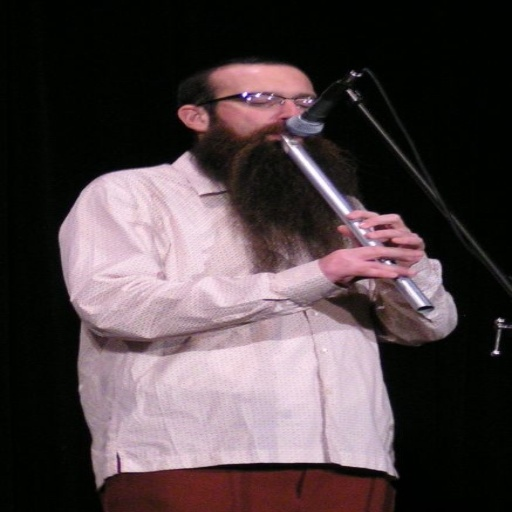hand: (323, 206, 425, 265), (316, 247, 425, 288)
